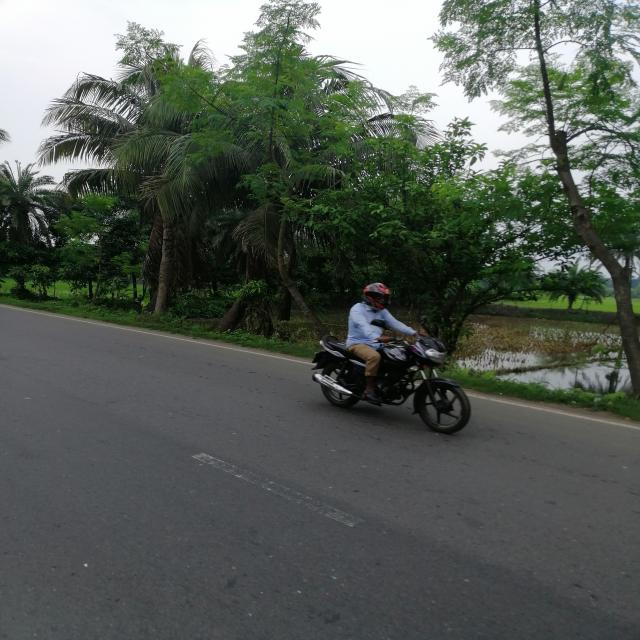Motorbike: (297, 333, 479, 435)
